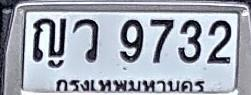2: (207, 19, 231, 64)
3: (178, 19, 202, 63)
7: (150, 19, 174, 64)
9: (120, 19, 143, 62)
A13: (32, 17, 66, 62)
A37: (72, 18, 98, 62)
BKK: (52, 75, 210, 95)
